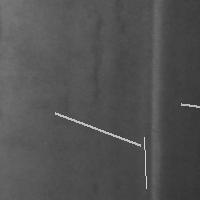scratches: (50, 108, 145, 150), (148, 1, 163, 198), (85, 18, 107, 105), (139, 132, 151, 193), (176, 99, 200, 120)
